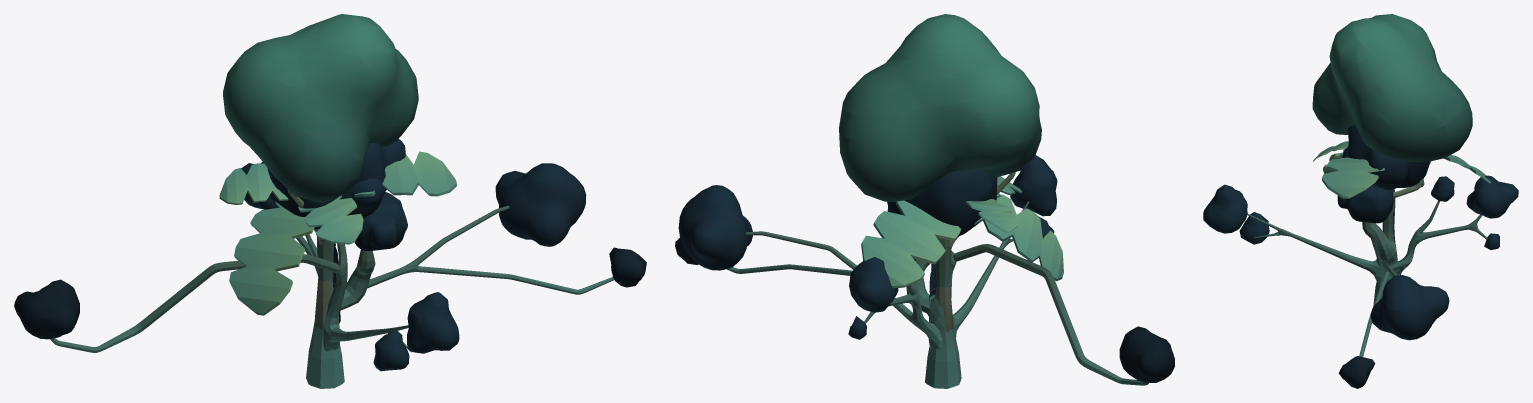
The model's file is ARBOLES_sebas.fbx.
The picture shows the model from 3 angles, left to right: view 1: azimuth 30°, elevation 25°; view 2: azimuth 150°, elevation 25°; view 3: azimuth 270°, elevation 25°; orthographic projection. The views are drawn at different scales.
Parts seen in each view (by area): view 1: Arbol 2, arbol 4, arbol 3, arbol 1; view 2: Arbol 2, arbol 4, arbol 3, arbol 1; view 3: Arbol 2, arbol 4, arbol 1, arbol 3.
Part boxes in pixels (x1=…): Arbol 2: x1=223, y1=14, x2=418, y2=330; arbol 4: x1=14, y1=162, x2=646, y2=388; arbol 3: x1=219, y1=151, x2=456, y2=326; arbol 1: x1=267, y1=139, x2=407, y2=388; Arbol 2: x1=839, y1=14, x2=1041, y2=332; arbol 4: x1=675, y1=155, x2=1174, y2=388; arbol 3: x1=861, y1=176, x2=1063, y2=322; arbol 1: x1=887, y1=170, x2=997, y2=388; Arbol 2: x1=1312, y1=14, x2=1472, y2=240; arbol 4: x1=1203, y1=146, x2=1518, y2=388; arbol 1: x1=1337, y1=124, x2=1429, y2=305; arbol 3: x1=1313, y1=141, x2=1490, y2=245.
Size of the model in its own units: 1615 by 997 by 975.
4 materials, 4 textured.
